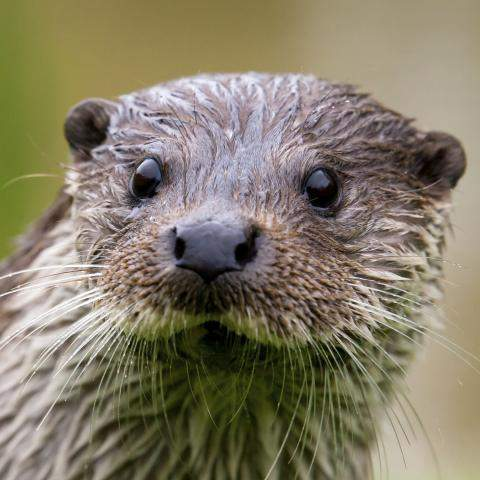otter: (18, 51, 478, 480)
